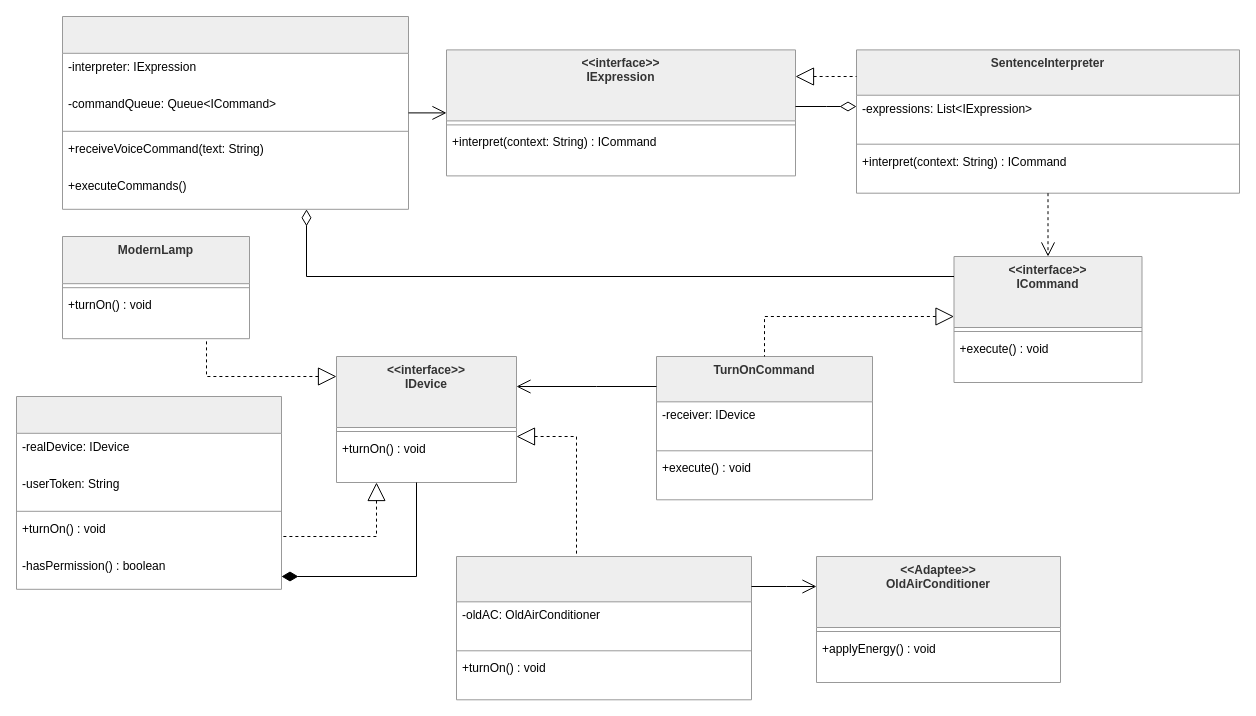
The diagram is 1256 pixels wide and 716 high, and some of its shapes have lost their labels. Each missing label, with the box of its shape:
AirConditionerAdapter: (456, 556, 752, 700)
SecurityProxy: (16, 396, 282, 589)
VoiceAssistant: (62, 16, 408, 209)
